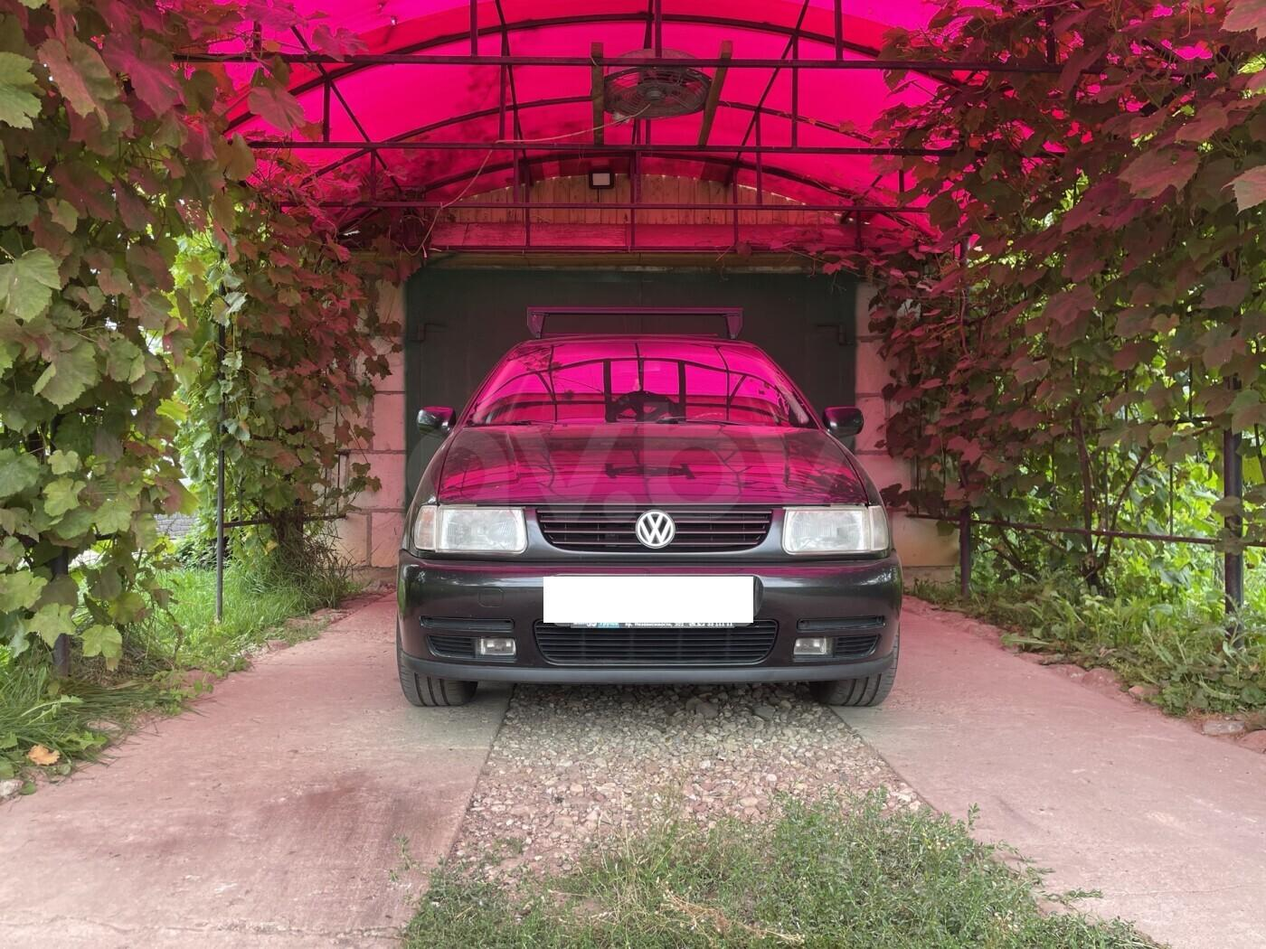Polo_1994-2002: (392, 328, 904, 717)
